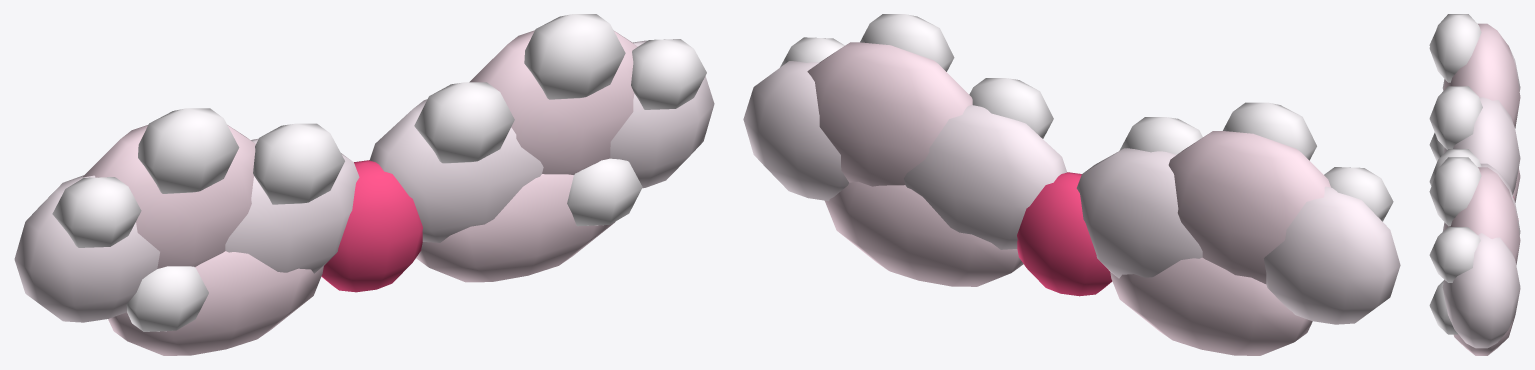
Rendered from cotton-wings.glb.
The picture shows the model from 3 angles, left to right: view 1: azimuth 30°, elevation 25°; view 2: azimuth 150°, elevation 25°; view 3: azimuth 270°, elevation 25°; orthographic projection. The views are drawn at different scales.
Parts seen in each view (by area): view 1: cotton wing mass.005, cotton wing mass.002, cotton wing mass.004, cotton wing mass.007, cotton wing mass.001, cotton wing mass.003, gummy heart, cotton wing mass, fluffy cotton tuft.001, fluffy cotton tuft.005, cotton wing mass.006, fluffy cotton tuft.004 (+5 smaller); view 2: cotton wing mass.005, cotton wing mass.001, cotton wing mass.004, cotton wing mass.002, cotton wing mass.003, cotton wing mass.007, cotton wing mass, cotton wing mass.006, gummy heart, fluffy cotton tuft.004, fluffy cotton tuft.001, fluffy cotton tuft.005 (+3 smaller); view 3: cotton wing mass.006, cotton wing mass.001, cotton wing mass.005, cotton wing mass, fluffy cotton tuft, fluffy cotton tuft.005, fluffy cotton tuft.001, fluffy cotton tuft.006, fluffy cotton tuft.007, fluffy cotton tuft.004, cotton wing mass.007, cotton wing mass.004 (+3 smaller).
Part boxes in pixels (left/top/right/bottom): cotton wing mass.005: left=469, top=30, right=637, bottom=174; cotton wing mass.002: left=14, top=175, right=159, bottom=322; cotton wing mass.004: left=369, top=99, right=543, bottom=242; cotton wing mass.007: left=416, top=174, right=615, bottom=282; cotton wing mass.001: left=83, top=125, right=255, bottom=268; cotton wing mass.003: left=108, top=251, right=323, bottom=355; gummy heart: left=321, top=160, right=422, bottom=292; cotton wing mass: left=225, top=138, right=359, bottom=273; fluffy cotton tuft.001: left=138, top=108, right=239, bottom=193; fluffy cotton tuft.005: left=524, top=14, right=625, bottom=99; cotton wing mass.006: left=610, top=40, right=714, bottom=188; fluffy cotton tuft.004: left=414, top=82, right=514, bottom=163; cotton wing mass.005: left=807, top=42, right=972, bottom=186; cotton wing mass.001: left=1168, top=131, right=1330, bottom=283; cotton wing mass.004: left=904, top=105, right=1067, bottom=249; cotton wing mass.002: left=1264, top=186, right=1400, bottom=324; cotton wing mass.003: left=1110, top=257, right=1312, bottom=355; cotton wing mass.007: left=825, top=181, right=1023, bottom=286; cotton wing mass: left=1076, top=148, right=1202, bottom=278; cotton wing mass.006: left=743, top=61, right=848, bottom=201; gummy heart: left=1017, top=172, right=1112, bottom=296; fluffy cotton tuft.004: left=969, top=78, right=1053, bottom=138; fluffy cotton tuft.001: left=1223, top=102, right=1316, bottom=160; fluffy cotton tuft.005: left=860, top=14, right=954, bottom=71; cotton wing mass.006: left=1442, top=233, right=1520, bottom=348; cotton wing mass.001: left=1444, top=23, right=1520, bottom=128; cotton wing mass.005: left=1444, top=167, right=1520, bottom=264; cotton wing mass: left=1443, top=97, right=1520, bottom=194; fluffy cotton tuft: left=1429, top=86, right=1482, bottom=149; fluffy cotton tuft.005: left=1429, top=157, right=1481, bottom=226; fluffy cotton tuft.001: left=1429, top=14, right=1481, bottom=82; fluffy cotton tuft.006: left=1429, top=227, right=1480, bottom=282; fluffy cotton tuft.007: left=1429, top=280, right=1458, bottom=334; fluffy cotton tuft.004: left=1429, top=149, right=1481, bottom=185; cotton wing mass.007: left=1453, top=289, right=1520, bottom=355; cotton wing mass.004: left=1442, top=163, right=1520, bottom=235.
Bounding box in the file's own units: 0.726 × 0.2665 × 0.11.
